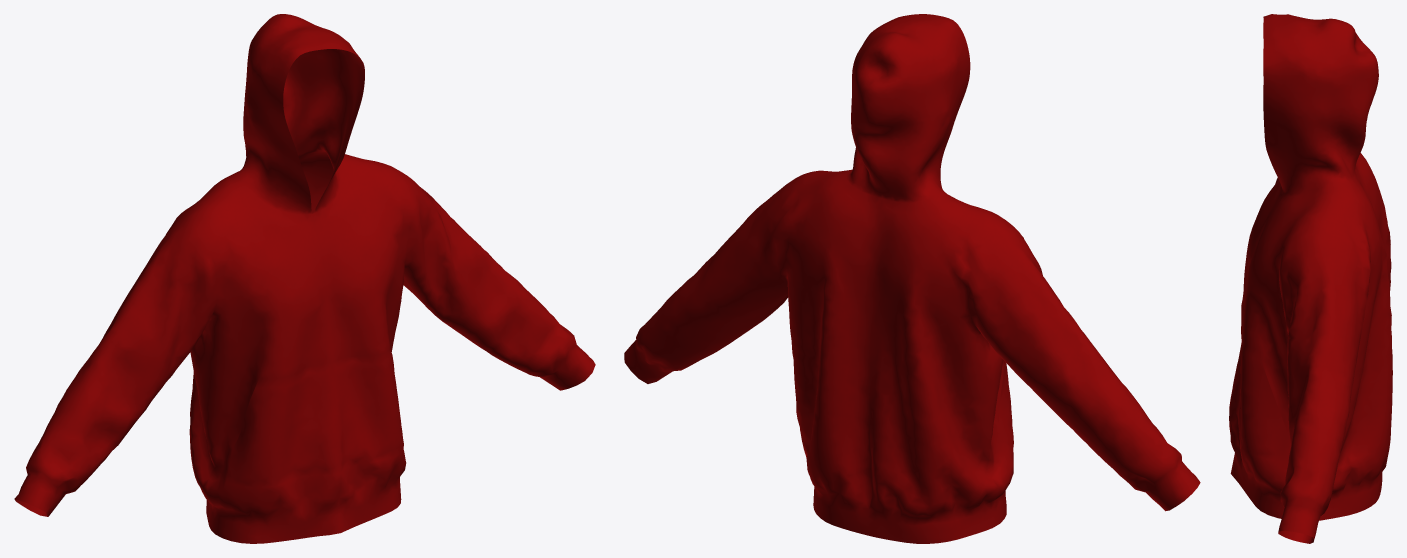
3 views of the same model, side by side, from view 1: azimuth 30°, elevation 25°; view 2: azimuth 150°, elevation 25°; view 3: azimuth 270°, elevation 25° (orthographic). The views are drawn at different scales.
Visible parts, largest first — view 1: T_Shirt_male; view 2: T_Shirt_male; view 3: T_Shirt_male.
Part boxes in pixels (x1=…): T_Shirt_male: x1=14, y1=14, x2=595, y2=543; T_Shirt_male: x1=624, y1=14, x2=1200, y2=543; T_Shirt_male: x1=1229, y1=14, x2=1392, y2=543.
Bounding box in the file's own units: 1.15 × 0.9321 × 0.3001.
1 material, 1 textured.
